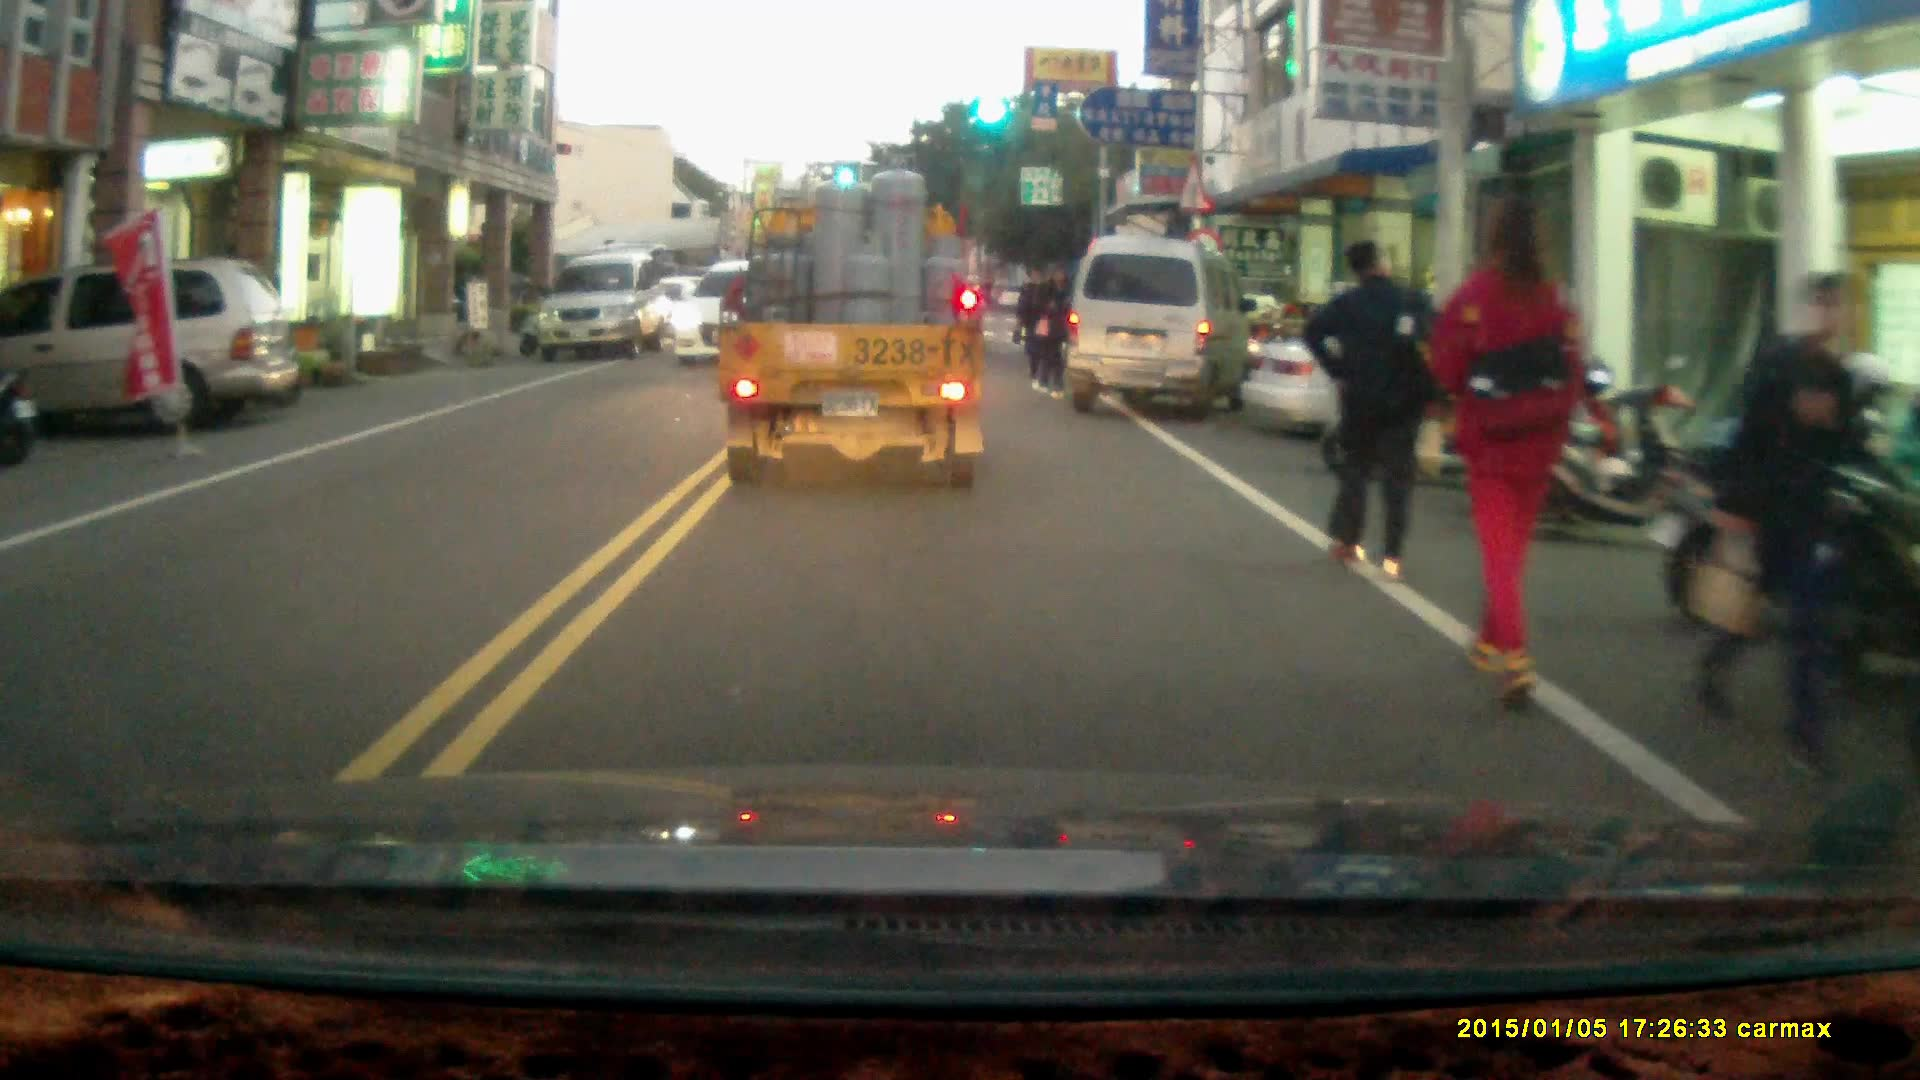pedestrian: (1693, 266, 1857, 779), (1428, 188, 1586, 707), (1302, 236, 1433, 577), (1033, 266, 1071, 401)
vehicle: (719, 171, 993, 504), (1248, 299, 1640, 457), (2, 261, 310, 444), (1069, 229, 1255, 415), (663, 255, 806, 367), (535, 253, 675, 363)
